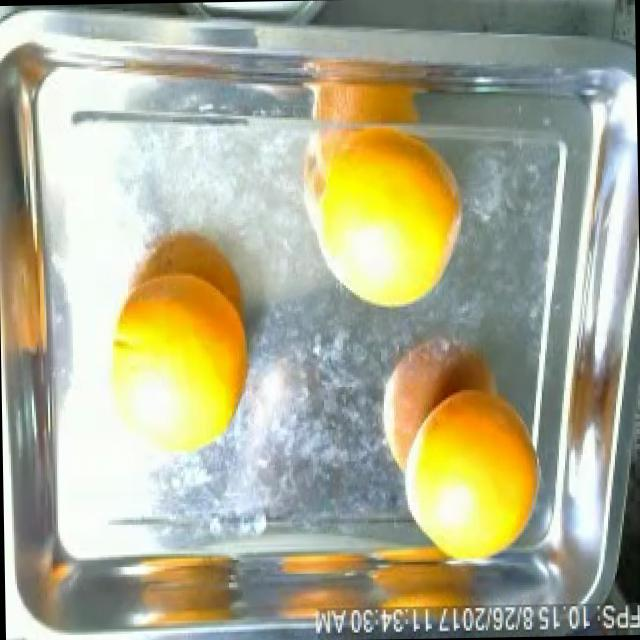Fruit: (296, 116, 474, 324), (386, 370, 544, 580), (126, 542, 245, 626)
